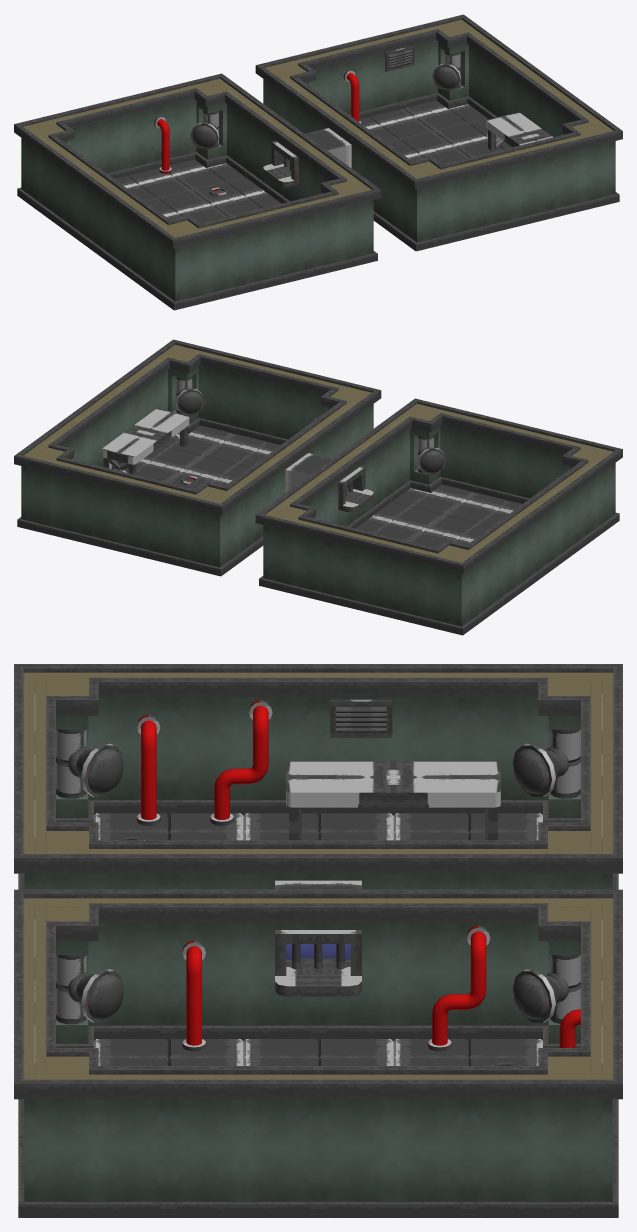
Rendered from Enviroment_V1.fbx.
3 renders of one model, top to bottom at view 1: azimuth 30°, elevation 25°; view 2: azimuth 150°, elevation 25°; view 3: azimuth 270°, elevation 25°, orthographic. The views are drawn at different scales.
Parts seen in each view (by area): view 1: Enviroment; view 2: Enviroment; view 3: Enviroment.
Part boxes in pixels (bbox=[...]): Enviroment: bbox=[14, 14, 622, 310]; Enviroment: bbox=[14, 339, 622, 635]; Enviroment: bbox=[14, 664, 622, 1217].
Size of the model in its own units: 1324 by 812 by 200.
Materials: 1 (1 with a texture image).
